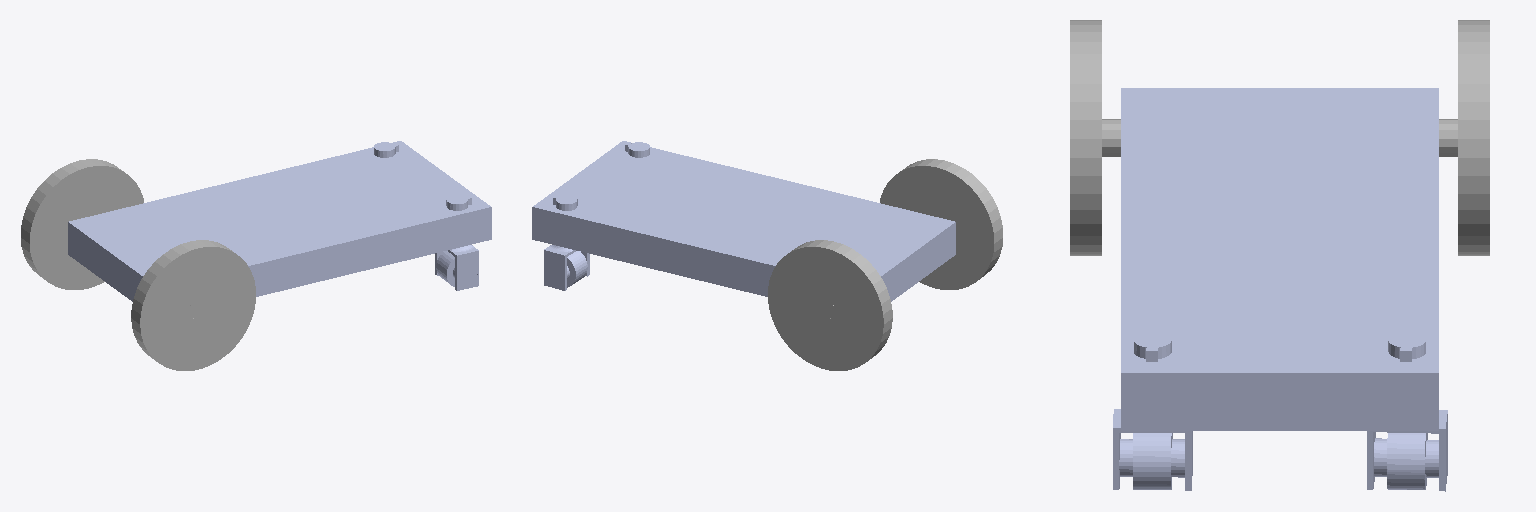
URDF robot description (rk_bot):
<?xml version="1.0" encoding="utf-8"?>
<!-- This URDF was automatically created by SolidWorks to URDF Exporter! Originally created by [author] ([email redacted]) 
     Commit Version: 1.6.0-1-g15f4949  Build Version: 1.6.7594.29634
     For more information, please see http://wiki.ros.org/sw_urdf_exporter -->
<robot
  name="rk_bot">
    <link 
    name="dummy_link">
  </link>
  <joint
    name="dummy_joint"
    type="fixed">
    <parent
      link="dummy_link" />
    <child
      link="chassis" />
  </joint>
  <link
    name="chassis">
    <inertial>
      <origin
        xyz="0.00374066589152284 2.74235412283863E-17 8.10097689622267E-21"
        rpy="0 0 0" />
      <mass
        value="6.3775995785298" />
      <inertia
        ixx="0.0342295273576062"
        ixy="1.11363182362414E-17"
        ixz="5.74622716833175E-19"
        iyy="0.143807948564283"
        iyz="1.35957611294182E-19"
        izz="0.175326392077361" />
    </inertial>
    <visual>
      <origin
        xyz="0 0 0"
        rpy="0 0 0" />
      <geometry>
        <mesh
          filename="package://rk_bot/meshes/chassis.STL" />
      </geometry>
      <material
        name="">
        <color
          rgba="0.792156862745098 0.819607843137255 0.933333333333333 1" />
      </material>
    </visual>
    <collision>
      <origin
        xyz="0 0 0"
        rpy="0 0 0" />
      <geometry>
        <mesh
          filename="package://rk_bot/meshes/chassis.STL" />
      </geometry>
    </collision>
  </link>
  <link
    name="front_left_leg">
    <inertial>
      <origin
        xyz="7.42709367834438E-05 -6.74004497303038E-06 0.0331269063227782"
        rpy="0 0 0" />
      <mass
        value="0.114192911912365" />
      <inertia
        ixx="9.08102975741437E-05"
        ixy="-1.12808217855419E-06"
        ixz="1.52065802340836E-19"
        iyy="6.98637794411562E-05"
        iyz="-3.27434416233595E-20"
        izz="3.65285981598052E-05" />
    </inertial>
    <visual>
      <origin
        xyz="0 0 0"
        rpy="0 0 0" />
      <geometry>
        <mesh
          filename="package://rk_bot/meshes/front_left_leg.STL" />
      </geometry>
      <material
        name="">
        <color
          rgba="0.792156862745098 0.819607843137255 0.933333333333333 1" />
      </material>
    </visual>
    <collision>
      <origin
        xyz="0 0 0"
        rpy="0 0 0" />
      <geometry>
        <mesh
          filename="package://rk_bot/meshes/front_left_leg.STL" />
      </geometry>
    </collision>
  </link>
  <joint
    name="front_left_leg_joint"
    type="revolute">
    <origin
      xyz="0.225000147341898 0.100002743826739 -0.0674599999999996"
      rpy="0 0 0" />
    <parent
      link="chassis" />
    <child
      link="front_left_leg" />
    <axis
      xyz="0 0 1" />
    <limit effort='1' velocity='10' lower='-0.5' upper='0.5'/>
  </joint>
  <transmission name="front_left_transmission">
    <type>transmission_interface/SimpleTransmission</type>
    <joint name="front_left_leg_joint">
      <hardwareInterface>EffortJointInterface</hardwareInterface>
    </joint>
    <actuator name="front_left_motor">
      <mechanicalReduction>50</mechanicalReduction>
      <hardwareInterface>hardware_interface/EffortJointInterface</hardwareInterface>
    </actuator>
  </transmission>
  <link
    name="front_left_wheel">
    <inertial>
      <origin
        xyz="-2.77555756156289E-17 -2.77555756156289E-17 0"
        rpy="0 0 0" />
      <mass
        value="0.0376991118430775" />
      <inertia
        ixx="1.08533993270826E-05"
        ixy="2.77557426617064E-07"
        ixz="-1.09808226316414E-22"
        iyy="1.60072178611101E-05"
        iyz="-2.50428930450427E-22"
        izz="1.08384946548848E-05" />
    </inertial>
    <visual>
      <origin
        xyz="0 0 0"
        rpy="0 0 0" />
      <geometry>
        <mesh
          filename="package://rk_bot/meshes/front_left_wheel.STL" />
      </geometry>
      <material
        name="">
        <color
          rgba="0.792156862745098 0.819607843137255 0.933333333333333 1" />
      </material>
    </visual>
    <collision>
      <origin
        xyz="0 0 0"
        rpy="0 0 0" />
      <geometry>
        <mesh
          filename="package://rk_bot/meshes/front_left_wheel.STL" />
      </geometry>
    </collision>
  </link>
  <joint
    name="front_left_wheel_joint"
    type="continuous">
    <origin
      xyz="0 0 0"
      rpy="0 0 0" />
    <parent
      link="front_left_leg" />
    <child
      link="front_left_wheel" />
    <axis
      xyz="0.0536221602252057 0.998561297033278 0" />
  </joint>
  <link
    name="front_right_leg">
    <inertial>
      <origin
        xyz="7.17543933509424E-05 -2.10787107637889E-06 0.0331269063227782"
        rpy="0 0 0" />
      <mass
        value="0.114192911912365" />
      <inertia
        ixx="9.08560050080565E-05"
        ixy="-5.59525369207127E-07"
        ixz="2.58766391199689E-20"
        iyy="6.98180720072431E-05"
        iyz="1.24525199204899E-20"
        izz="3.65285981598051E-05" />
    </inertial>
    <visual>
      <origin
        xyz="0 0 0"
        rpy="0 0 0" />
      <geometry>
        <mesh
          filename="package://rk_bot/meshes/front_right_leg.STL" />
      </geometry>
      <material
        name="">
        <color
          rgba="0.792156862745098 0.819607843137255 0.933333333333333 1" />
      </material>
    </visual>
    <collision>
      <origin
        xyz="0 0 0"
        rpy="0 0 0" />
      <geometry>
        <mesh
          filename="package://rk_bot/meshes/front_right_leg.STL" />
      </geometry>
    </collision>
  </link>
  <joint
    name="front_right_leg_joint"
    type="revolute">
    <origin
      xyz="0.225002744800049 -0.0999998720644843 -0.0674600000000001"
      rpy="0 0 0" />
    <parent
      link="chassis" />
    <child
      link="front_right_leg" />
    <axis
      xyz="0 0 1" />
      <limit effort='1' velocity='10' lower='-0.5' upper='0.5'/>
  </joint>
  <transmission name="front_right_transmission">
    <type>transmission_interface/SimpleTransmission</type>
    <joint name="front_right_leg_joint">
      <hardwareInterface>EffortJointInterface</hardwareInterface>
    </joint>
    <actuator name="front_right_motor">
      <mechanicalReduction>50</mechanicalReduction>
      <hardwareInterface>hardware_interface/EffortJointInterface</hardwareInterface>
    </actuator>
  </transmission>
  <link
    name="front_right_wheel">
    <inertial>
      <origin
        xyz="-2.67179916532689E-06 2.61887457565779E-06 1.38777878078145E-17"
        rpy="0 0 0" />
      <mass
        value="0.0376991118430775" />
      <inertia
        ixx="1.08421533493758E-05"
        ixy="1.37665989689402E-07"
        ixz="-2.01832069462939E-21"
        iyy="1.60184638388169E-05"
        iyz="9.65733365155652E-23"
        izz="1.08384946548847E-05" />
    </inertial>
    <visual>
      <origin
        xyz="0 0 0"
        rpy="0 0 0" />
      <geometry>
        <mesh
          filename="package://rk_bot/meshes/front_right_wheel.STL" />
      </geometry>
      <material
        name="">
        <color
          rgba="0.792156862745098 0.819607843137255 0.933333333333333 1" />
      </material>
    </visual>
    <collision>
      <origin
        xyz="0 0 0"
        rpy="0 0 0" />
      <geometry>
        <mesh
          filename="package://rk_bot/meshes/front_right_wheel.STL" />
      </geometry>
    </collision>
  </link>
  <joint
    name="front_right_wheel_joint"
    type="continuous">
    <origin
      xyz="0 0 0"
      rpy="0 0 0" />
    <parent
      link="front_right_leg" />
    <child
      link="front_right_wheel" />
    <axis
      xyz="0.0265672232218073 0.999647029030889 0" />
  </joint>
  
  <link
    name="rear_axle">
    <inertial>
      <origin
        xyz="2.77555756156289E-17 -0.165 -4.35205466912218E-17"
        rpy="0 0 0" />
      <mass
        value="1.54193294429004" />
      <inertia
        ixx="0.00507108390089681"
        ixy="2.68227099963858E-21"
        ixz="9.68727758973099E-20"
        iyy="0.00577211997274141"
        iyz="-1.46819044190745E-20"
        izz="0.00507108390089681" />
    </inertial>
    <visual>
      <origin
        xyz="0 0 0"
        rpy="0 0 0" />
      <geometry>
        <mesh
          filename="package://rk_bot/meshes/rear_axle.STL" />
      </geometry>
      <material
        name="">
        <color
          rgba="0.752941176470588 0.752941176470588 0.752941176470588 1" />
      </material>
    </visual>
    <collision>
      <origin
        xyz="0 0 0"
        rpy="0 0 0" />
      <geometry>
        <mesh
          filename="package://rk_bot/meshes/rear_axle.STL" />
      </geometry>
    </collision>
  </link>
  <joint
    name="rear_axle_joint"
    type="continuous">
    <origin
      xyz="-0.224999999999999 0.165 0"
      rpy="0 0 0" />
    <parent
      link="chassis" />
    <child
      link="rear_axle" />
    <axis
      xyz="0 1 0" />
  </joint>
  <transmission name="rear_axle_transmission">
    <type>transmission_interface/SimpleTransmission</type>
    <joint name="rear_axle_joint">
      <hardwareInterface>VelocityJointInterface</hardwareInterface>
    </joint>
    <actuator name="rear_axle_motor">
      <mechanicalReduction>50</mechanicalReduction>
      <hardwareInterface>hardware_interface/VelocityJointInterface</hardwareInterface>
    </actuator>
  </transmission>
</robot>

--- What the picture shows (computed from the rendered views, not written in the file) ---
The picture shows the robot from 3 angles, left to right: view 1: azimuth 30°, elevation 25°; view 2: azimuth 150°, elevation 25°; view 3: azimuth 270°, elevation 25°; orthographic projection.
Model rk_bot with 7 links and 6 joints (2 revolute, 3 continuous, 1 fixed), rooted at dummy_link, posed all joints at 0.
Links seen in each view (by area): view 1: chassis, rear_axle, front_right_leg; view 2: chassis, rear_axle, front_left_leg, front_left_wheel; view 3: chassis, rear_axle, front_left_leg, front_right_leg, front_left_wheel, front_right_wheel.
Boxes of the visible links, bbox=[...] form: chassis: bbox=[68, 141, 491, 301]; rear_axle: bbox=[21, 159, 255, 370]; front_right_leg: bbox=[435, 195, 478, 290]; chassis: bbox=[532, 141, 955, 301]; rear_axle: bbox=[768, 159, 1002, 370]; front_left_leg: bbox=[544, 195, 589, 290]; front_left_wheel: bbox=[567, 251, 587, 287]; chassis: bbox=[1121, 88, 1438, 430]; rear_axle: bbox=[1070, 20, 1489, 255]; front_left_leg: bbox=[1367, 332, 1447, 491]; front_right_leg: bbox=[1113, 332, 1192, 490]; front_left_wheel: bbox=[1387, 433, 1427, 489]; front_right_wheel: bbox=[1133, 433, 1172, 489].
Size in the robot's own frame: 0.5825 by 0.33 by 0.1849 metres.
6 mesh visuals loaded from 6 distinct referenced files (6 binary STL).